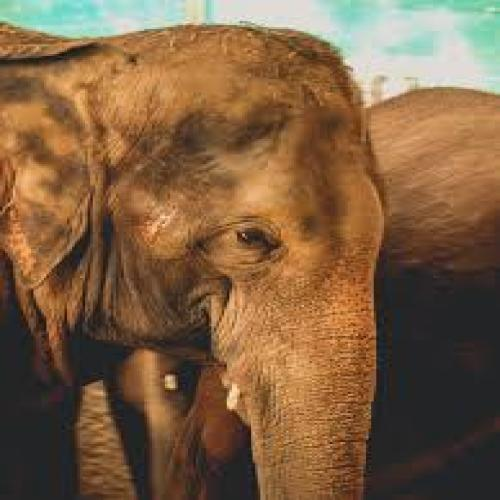asian_elephant-endangered: (0, 23, 390, 494)
